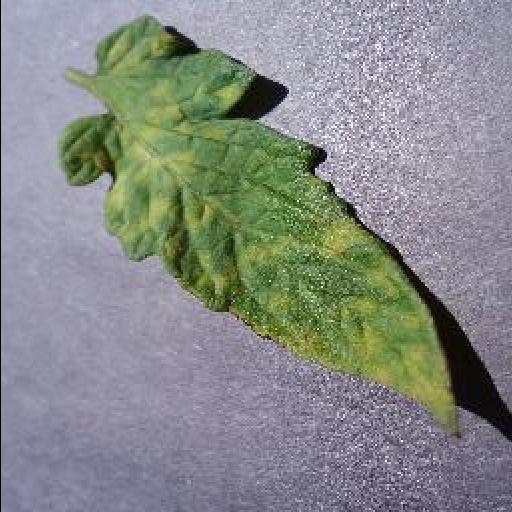disease_tomato: (56, 18, 462, 442)
